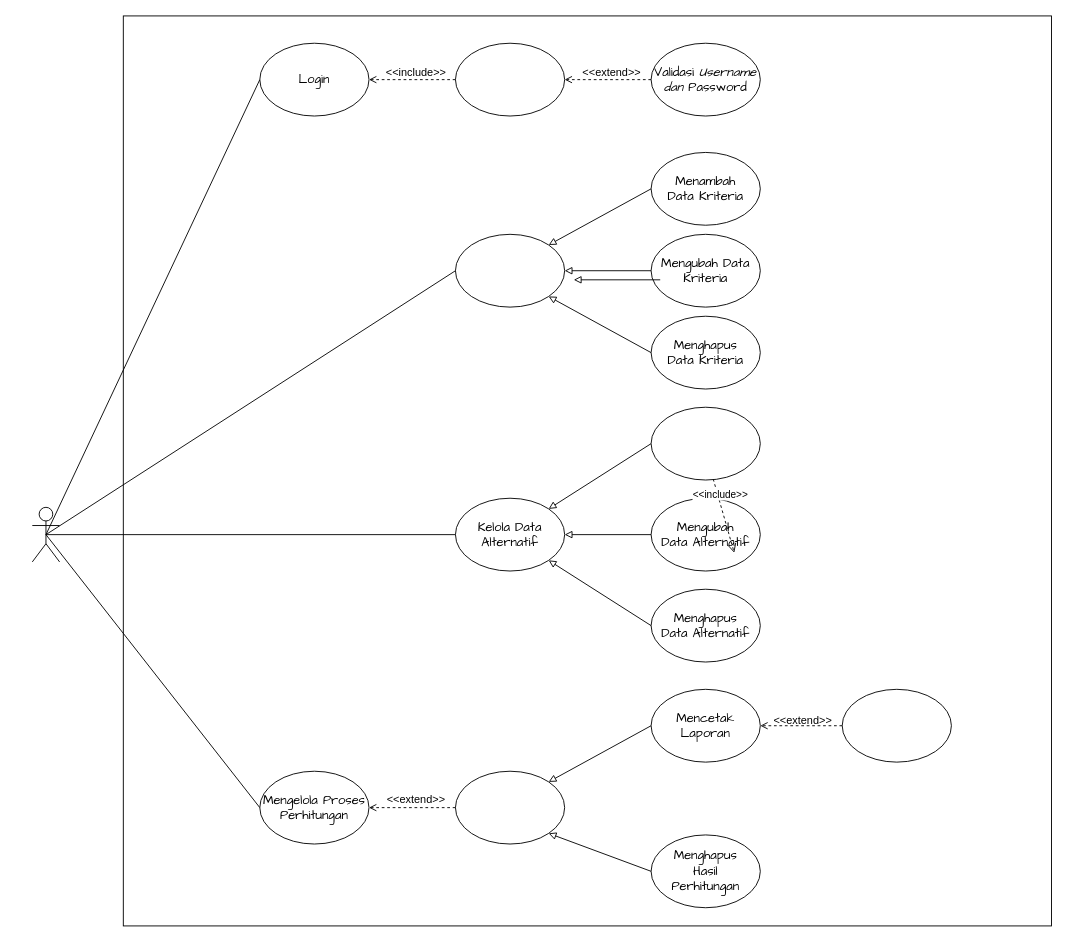
Image size: 1067x942. Some labels were removed from this diagram. The box of each missing label's shape, as (x1, y1, x2, y2) in pixels:
Hasil Perhitungan: (455, 770, 565, 844)
Input Username dan Password: (455, 42, 565, 116)
Kelola Data Kriteria: (455, 233, 565, 307)
Laporan Hasil ( Pdf ): (841, 688, 951, 762)
Menambah Data Alternatif: (650, 406, 760, 480)
Supervisor Akademi: (31, 506, 60, 562)
